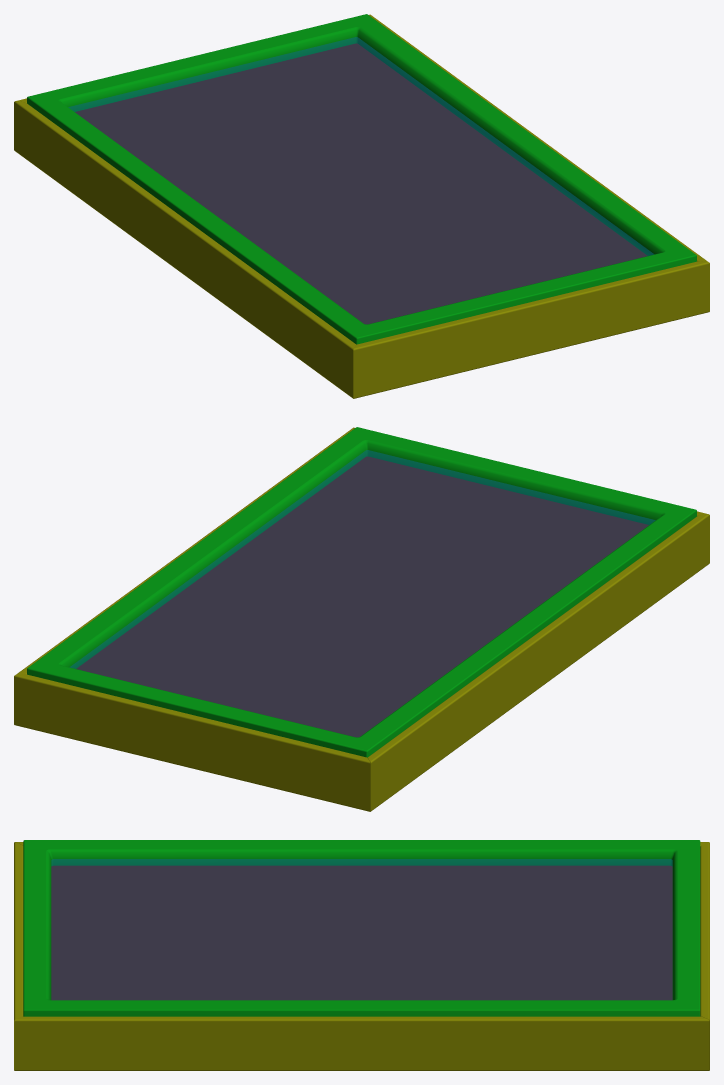
File: GFX_D27_low.FBX
3 views of the same model, one above another, from view 1: azimuth 30°, elevation 25°; view 2: azimuth 150°, elevation 25°; view 3: azimuth 270°, elevation 25° (orthographic). The views are drawn at different scales.
Visible parts, largest first — view 1: GFX_D27_low; view 2: GFX_D27_low; view 3: GFX_D27_low.
Part boxes in pixels (x1,y1,x2,y2): GFX_D27_low: (14,14,709,398); GFX_D27_low: (14,427,709,811); GFX_D27_low: (14,840,709,1070).
Size of the model in its own units: 398 by 59.72 by 656.
